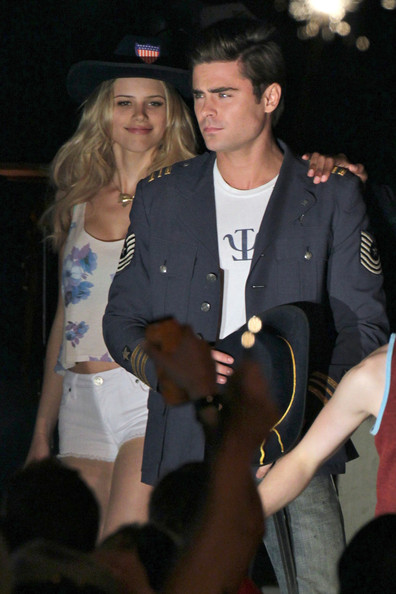Person: (103, 14, 392, 594), (24, 28, 195, 538)
